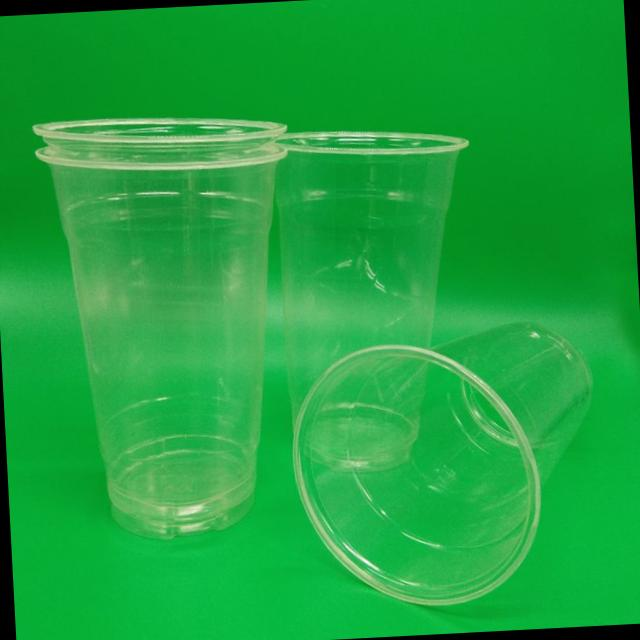GelasPlastik: (31, 108, 309, 546), (258, 305, 616, 625)
